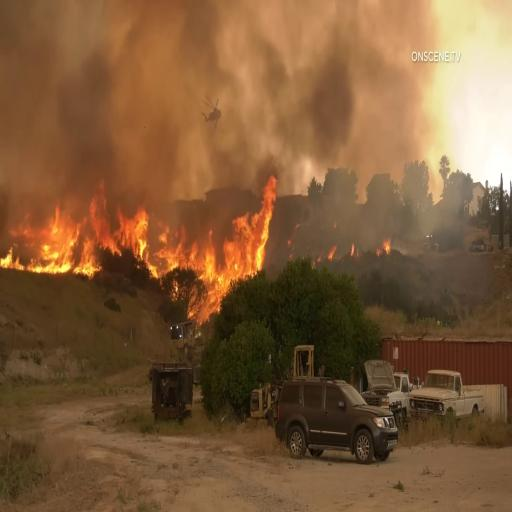fire: (81, 145, 184, 270), (188, 172, 262, 306), (12, 188, 77, 270)
